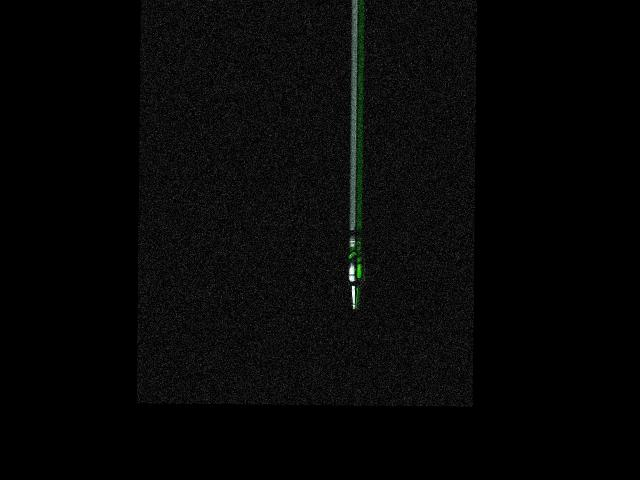beer: (348, 240, 365, 309)
